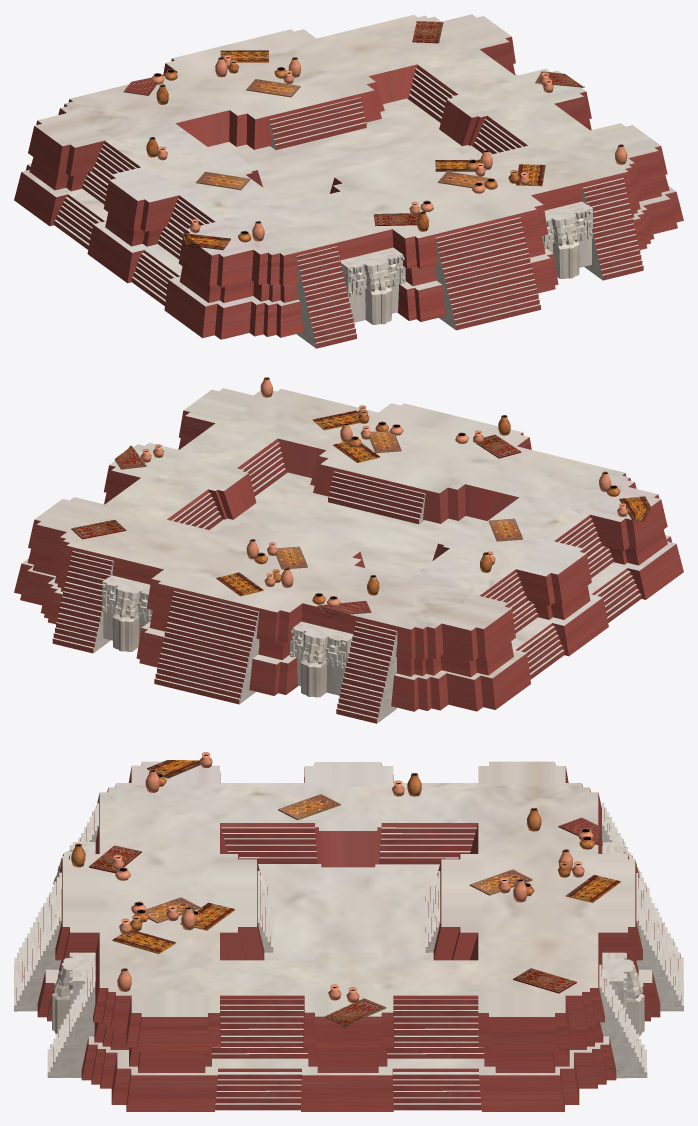
The model's file is resevatorio.dae.
3 renders of one model, top to bottom at view 1: azimuth 30°, elevation 25°; view 2: azimuth 150°, elevation 25°; view 3: azimuth 270°, elevation 25°, orthographic. The views are drawn at different scales.
Parts seen in each view (by area): view 1: resev; view 2: resev; view 3: resev.
Part boxes in pixels (left/top/right/bottom): resev: left=14, top=14, right=683, bottom=348; resev: left=14, top=377, right=683, bottom=723; resev: left=14, top=752, right=683, bottom=1111.
Bounding box in the file's own units: 37.71 × 39.06 × 7.42.
Materials: 1 (1 with a texture image).
